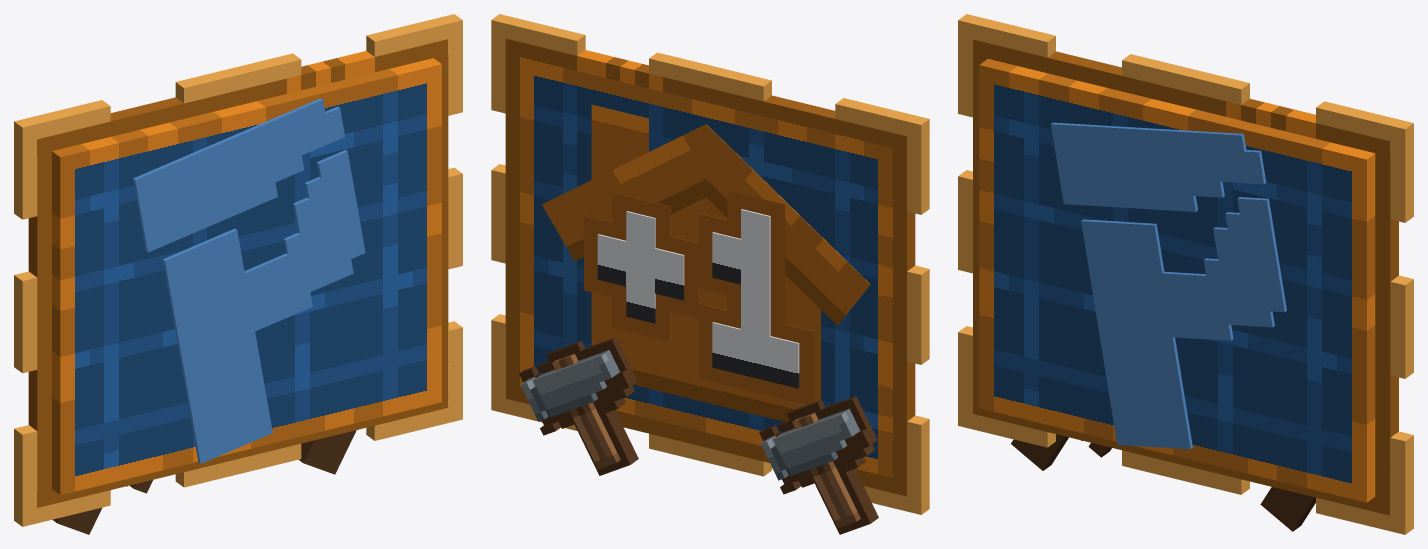
Rendered from bldg_up_brnz_advanced.gltf.
The picture shows the model from 3 angles, left to right: view 1: azimuth 30°, elevation 25°; view 2: azimuth 150°, elevation 25°; view 3: azimuth 330°, elevation 25°; orthographic projection. The views are drawn at different scales.
Parts seen in each view (by area): view 1: plan-Local, backp-Local, skull02-Local, skull3-Local; view 2: plan-Local, icon_border-Local, icon-Local, house_body-Local, skull3-Local, skull02-Local, house_roof_2-Local, house_roof_1-Local; view 3: plan-Local, backp-Local, skull02-Local, skull3-Local.
Boxes of the visible parts, x1=… form: plan-Local: x1=14, y1=14, x2=462, y2=526; backp-Local: x1=133, y1=98, x2=365, y2=463; skull02-Local: x1=299, y1=430, x2=356, y2=474; skull3-Local: x1=52, y1=480, x2=152, y2=534; plan-Local: x1=491, y1=14, x2=929, y2=514; icon_border-Local: x1=584, y1=190, x2=813, y2=404; icon-Local: x1=597, y1=209, x2=799, y2=388; house_body-Local: x1=591, y1=104, x2=820, y2=421; skull3-Local: x1=759, y1=396, x2=878, y2=534; skull02-Local: x1=519, y1=337, x2=638, y2=475; house_roof_2-Local: x1=690, y1=124, x2=870, y2=325; house_roof_1-Local: x1=542, y1=124, x2=712, y2=261; plan-Local: x1=958, y1=14, x2=1413, y2=534; backp-Local: x1=1051, y1=122, x2=1286, y2=449; skull02-Local: x1=1260, y1=487, x2=1315, y2=531; skull3-Local: x1=1011, y1=434, x2=1111, y2=470.
Bounding box in the file's own units: 60 × 56.24 × 7.52.
Materials: 9 (9 with a texture image).
